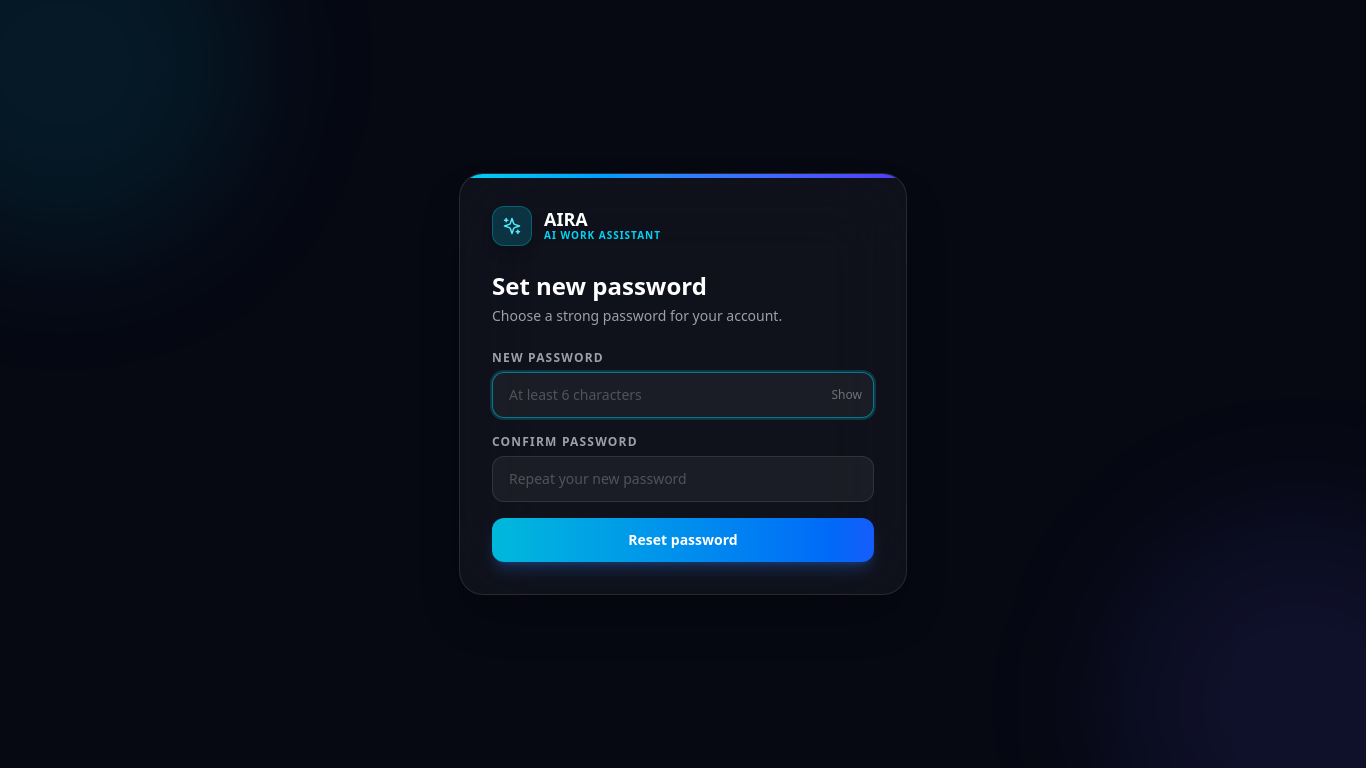
Password Reset Frontend Suite (Phase 6B) › ResetPasswordPage › shows error when passwords do not match
This screenshot has width=1366, height=768.
Type "password123" into the password field with placeholder "At least 6 characters".
click(683, 395); type("password123")  # box [492,372,874,418]
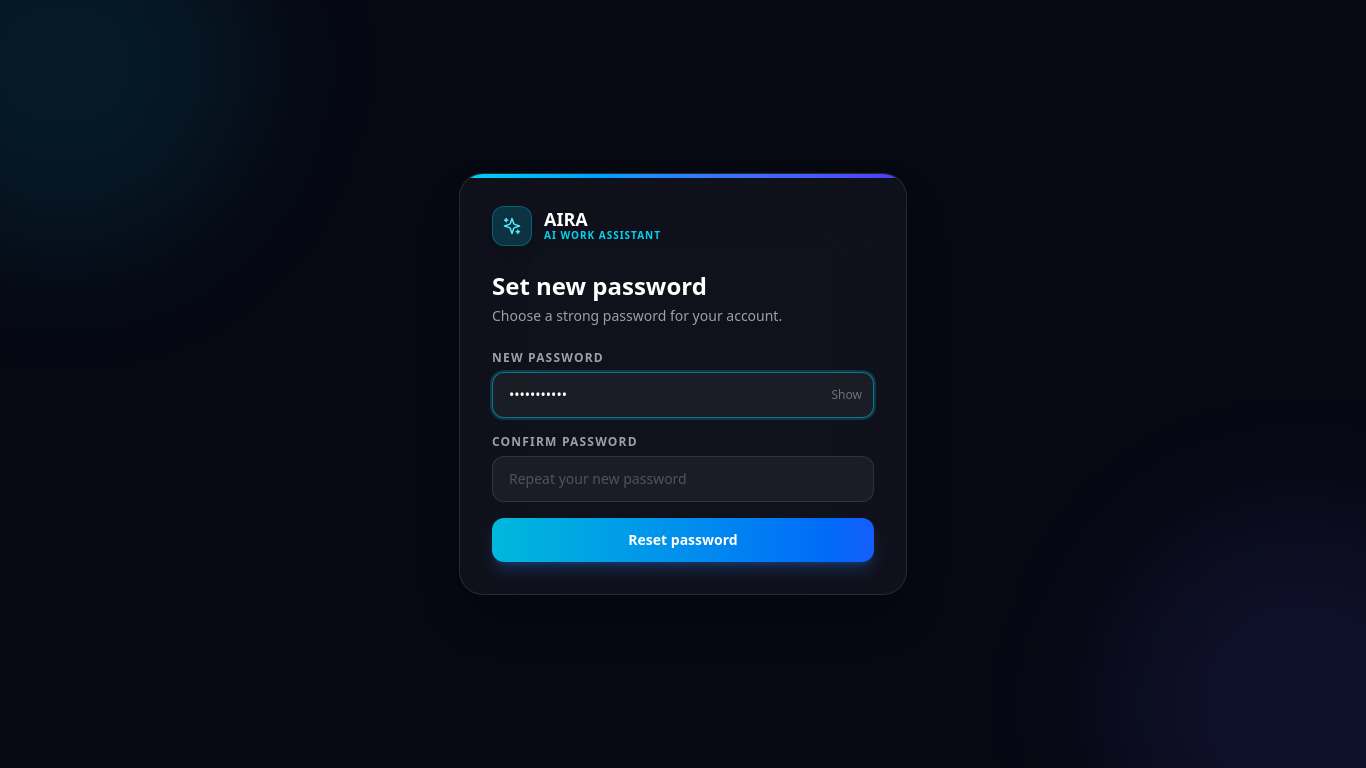
Type "differentPassword" into the password field with placeholder "Repeat your new password".
click(683, 479); type("differentPassword")  # box [492,456,874,502]
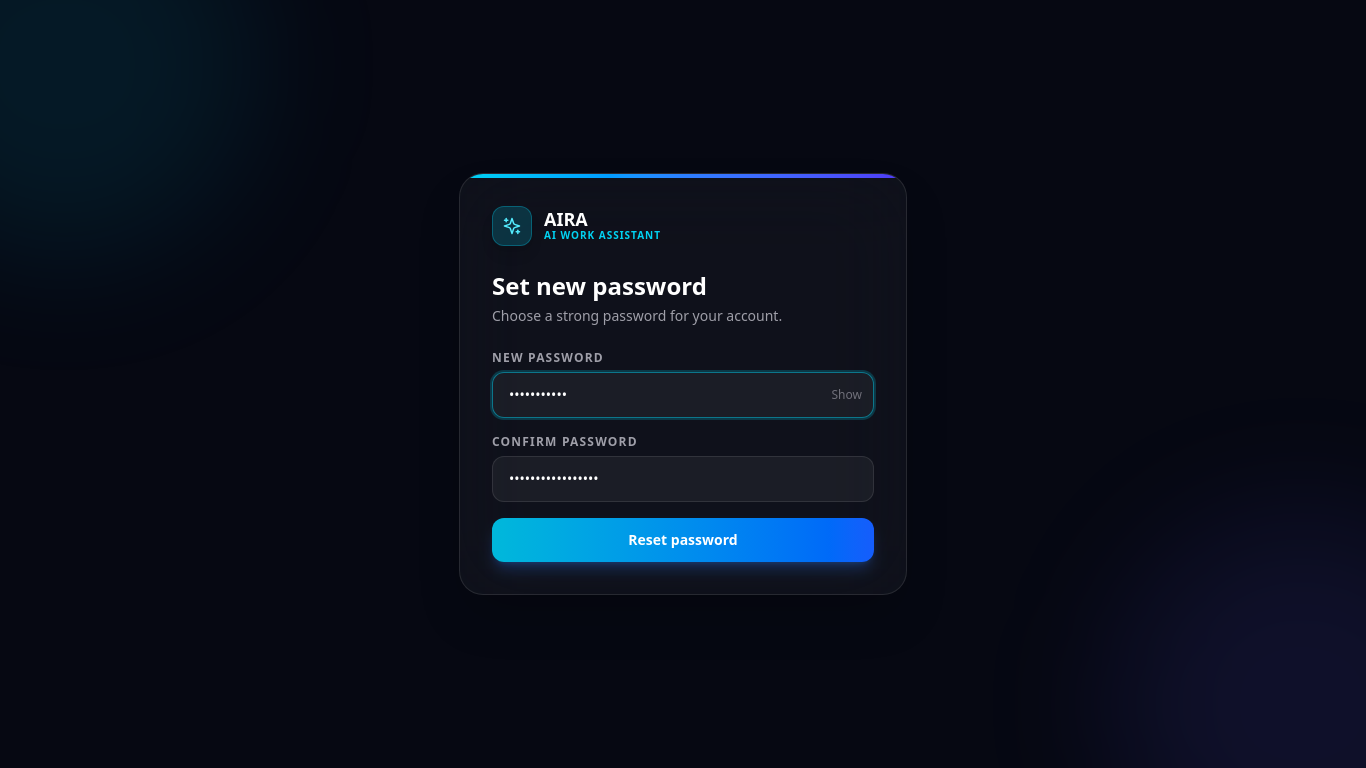
Click the button "Reset password".
click(683, 540)  # box [492,518,874,562]
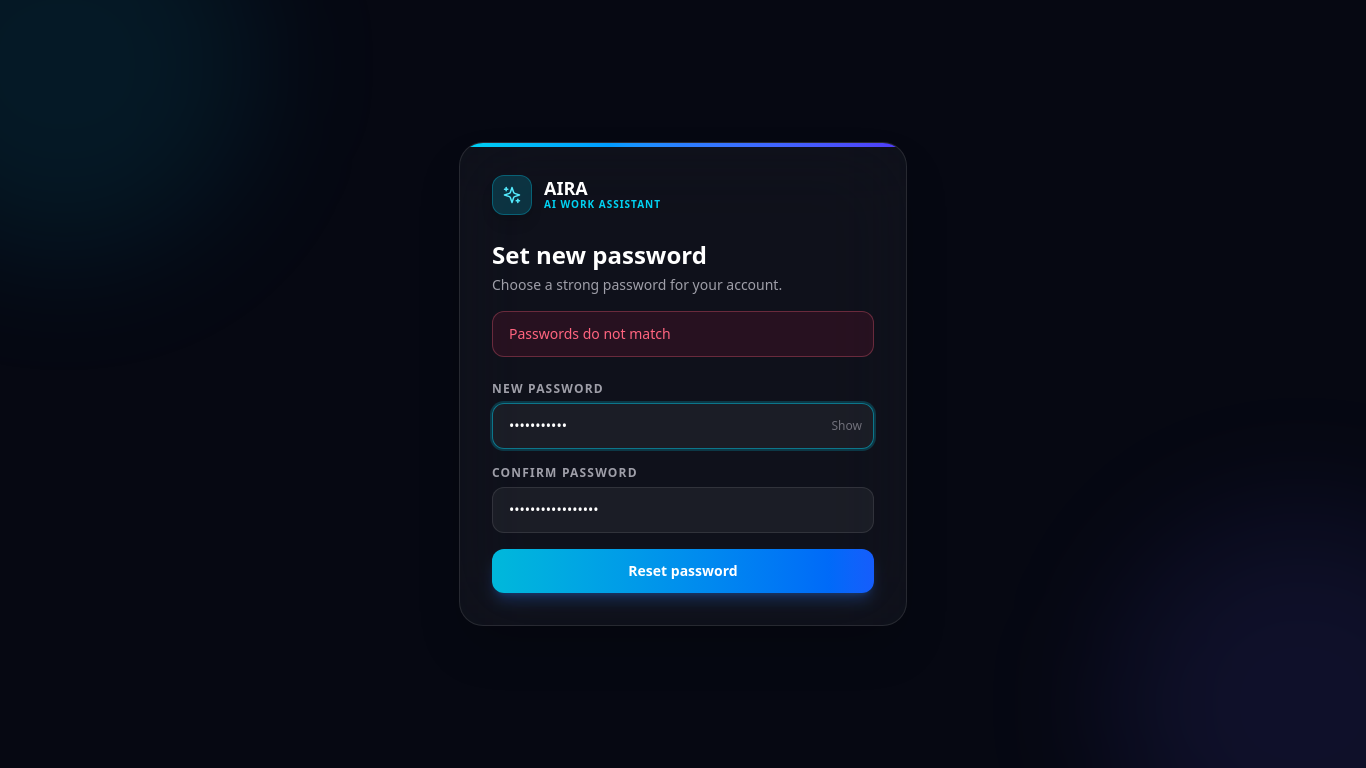
Check: the text "Passwords do not match" is shown, box [492,311,874,357]
